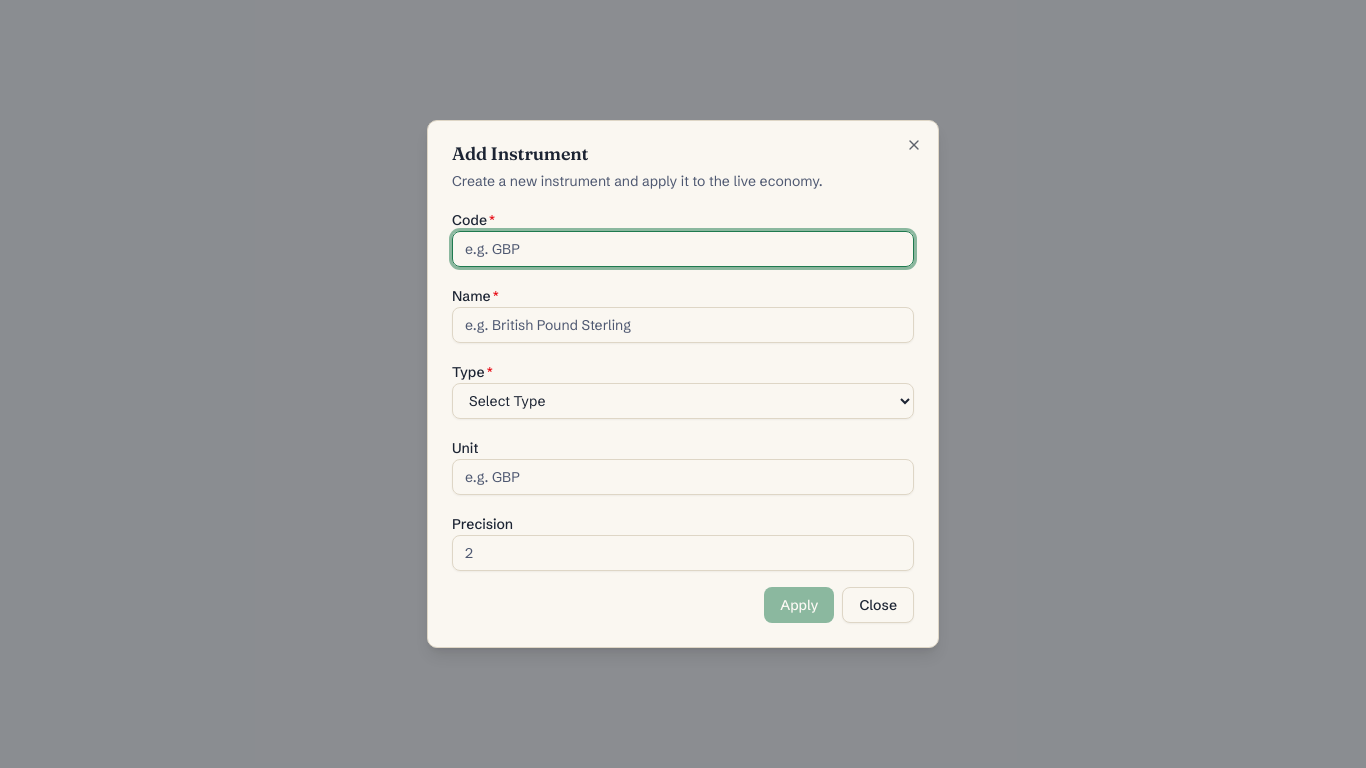
it: ApplyResourceModal › shows success message after apply
This screenshot has width=1366, height=768.
Step 1. Type "GBP" into the field labelled "Code" → (683, 249), box x1=452 y1=231 x2=914 y2=267
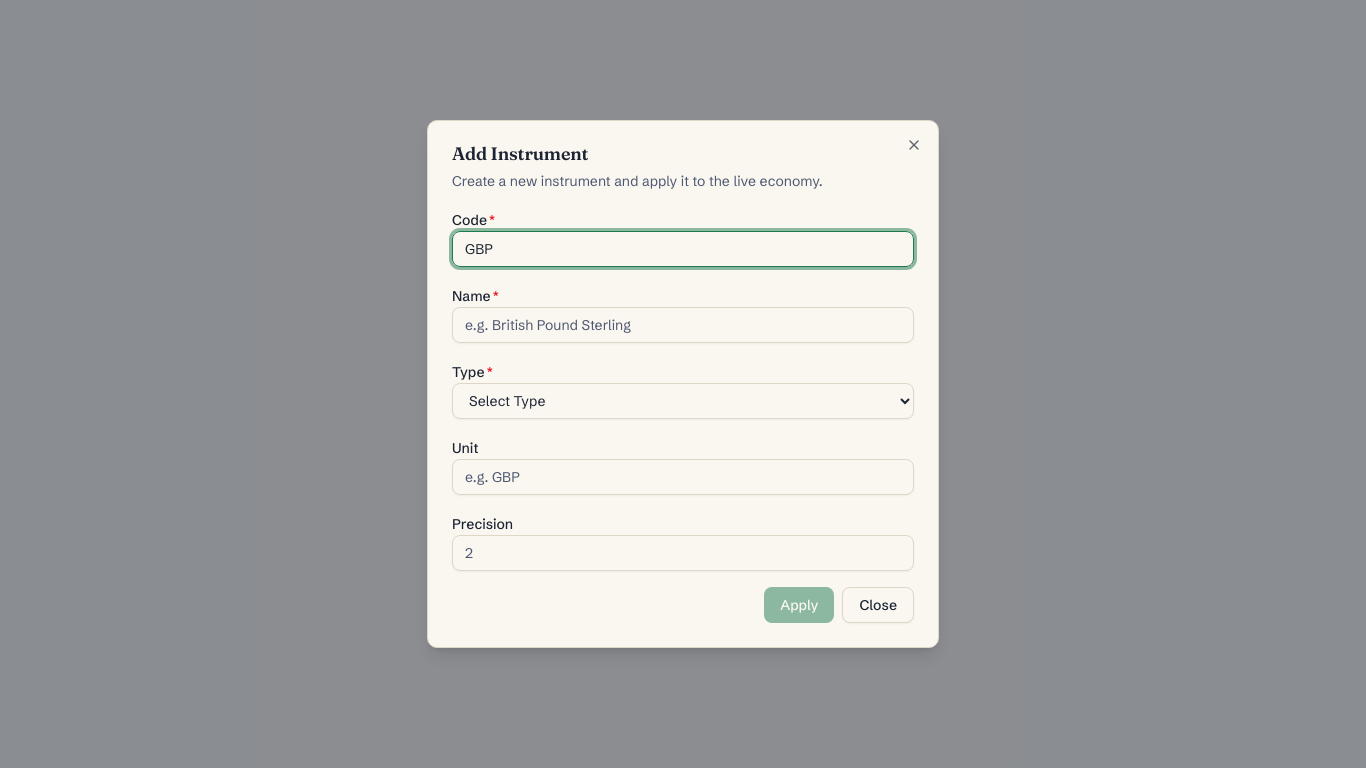
Step 2. Type "British Pound" into the field labelled "Name" → (683, 325), box x1=452 y1=307 x2=914 y2=343
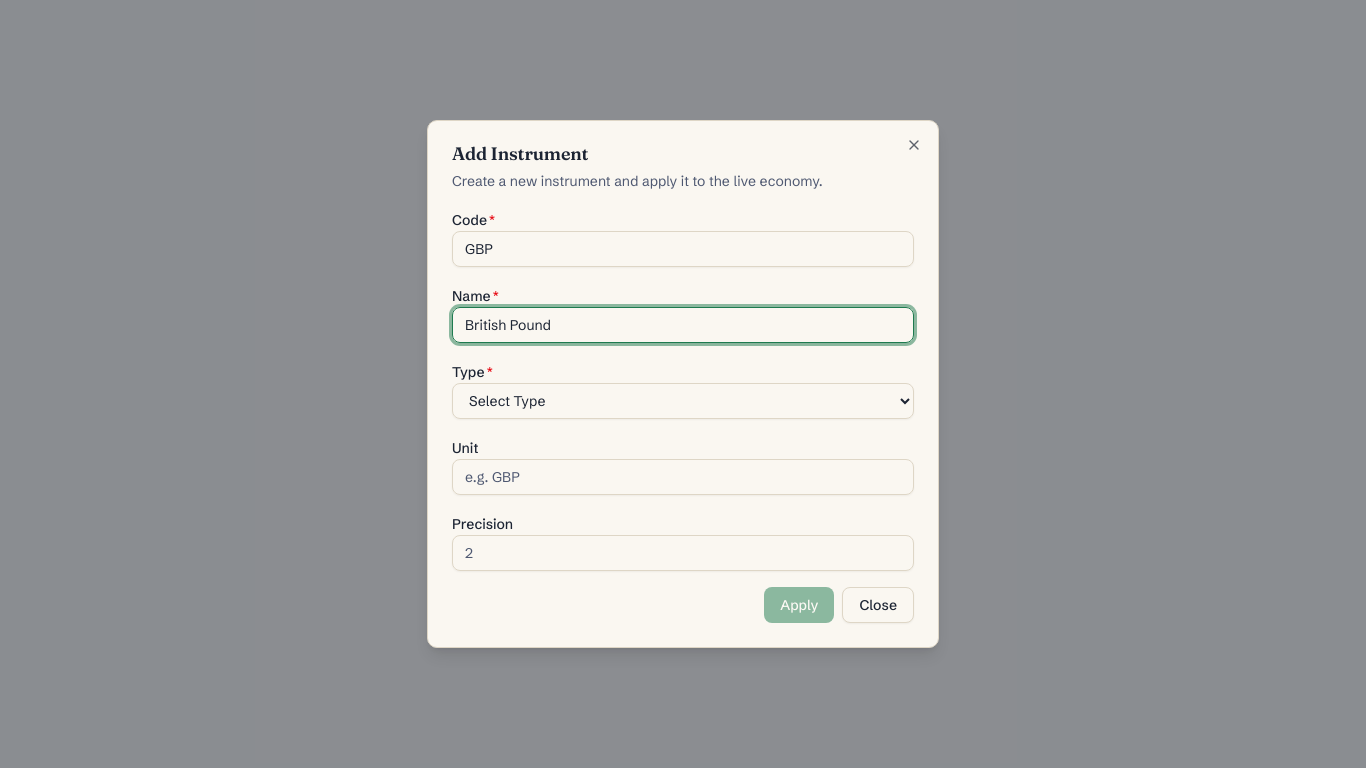
Step 3. Select "Fiat" in the dropdown labelled "Type" → (683, 401), box x1=452 y1=383 x2=914 y2=419
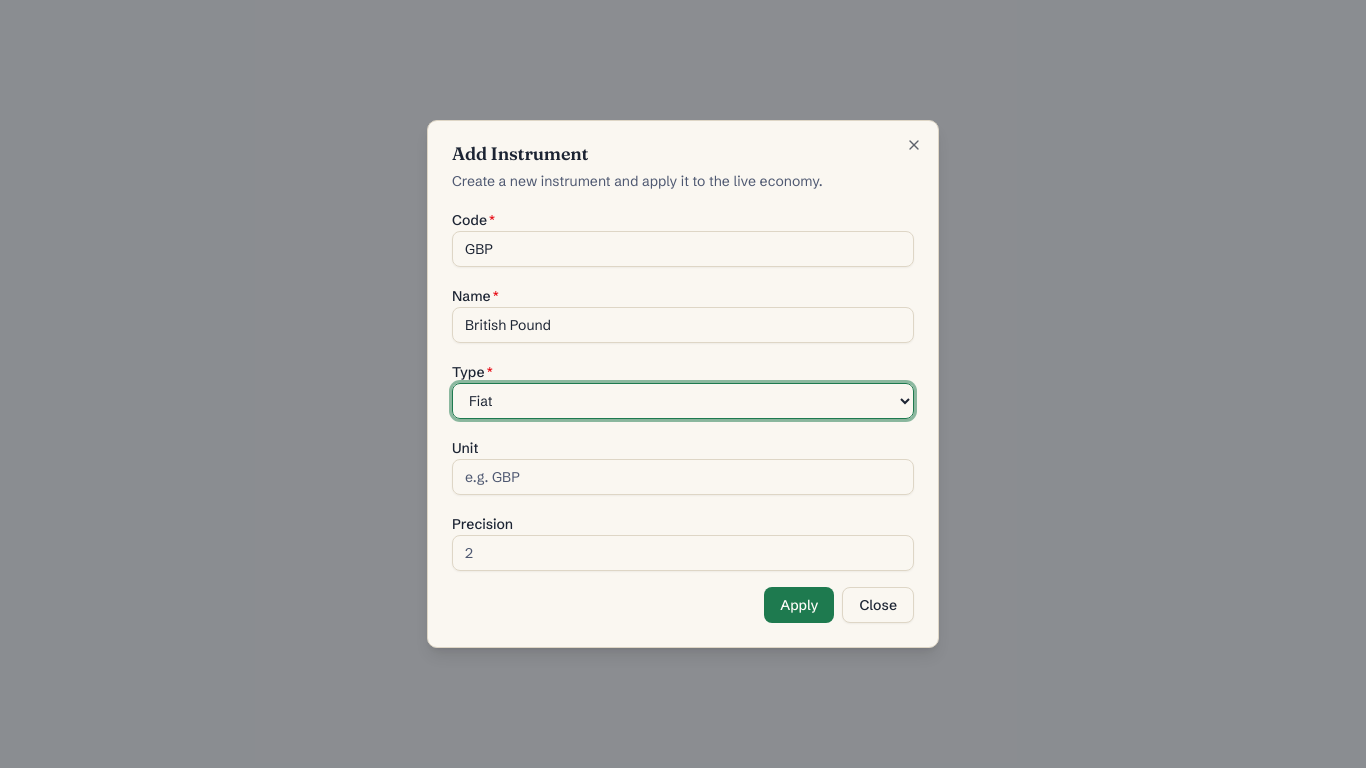
Step 4. Click the button with test id "apply-resource-submit" → (799, 605), box x1=764 y1=587 x2=834 y2=623
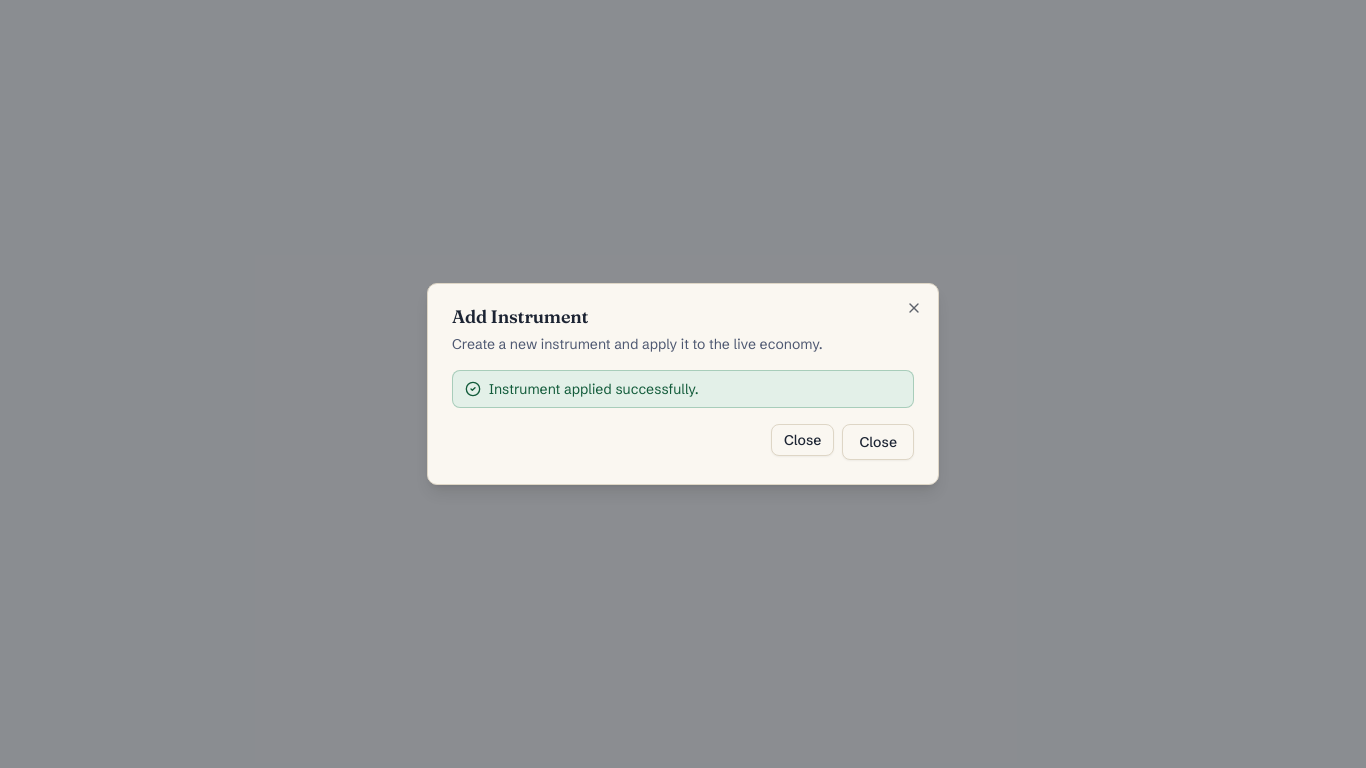
Expected: the element with test id "apply-resource-success" is shown, x1=452 y1=370 x2=914 y2=408
